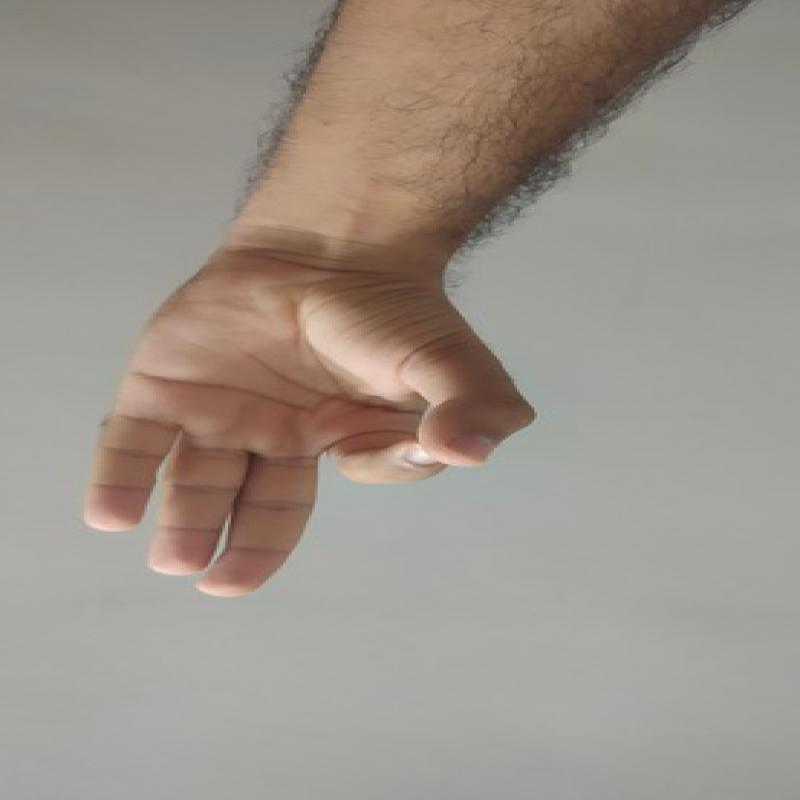Mudraakhyam: (74, 240, 550, 611)
